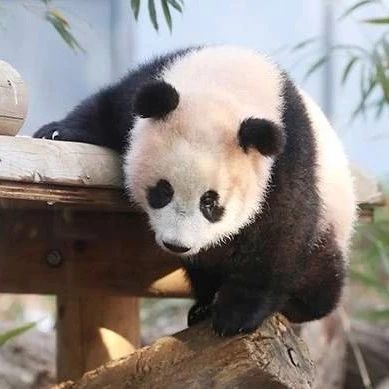panda: (56, 24, 340, 335)
